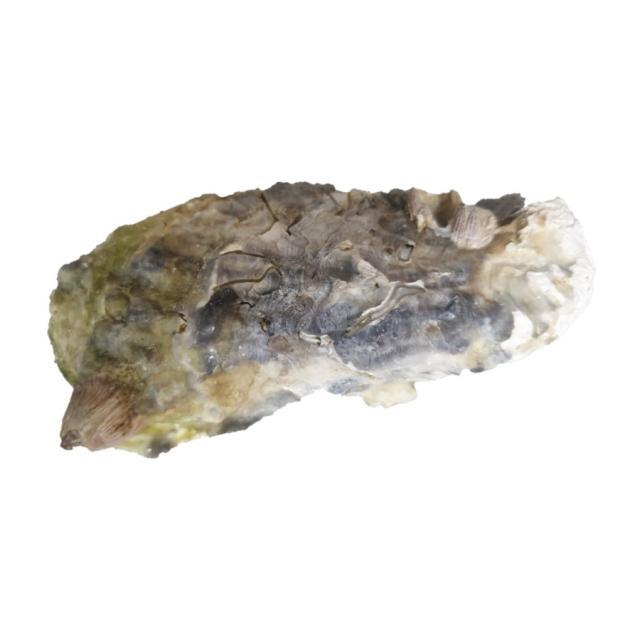Oyster- Indeterminate: (46, 182, 600, 461)
